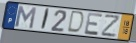2: (50, 10, 69, 34)
D: (66, 10, 86, 35)
E: (83, 12, 104, 37)
I: (40, 8, 51, 31)
M: (14, 5, 38, 30)
Z: (100, 15, 121, 38)
